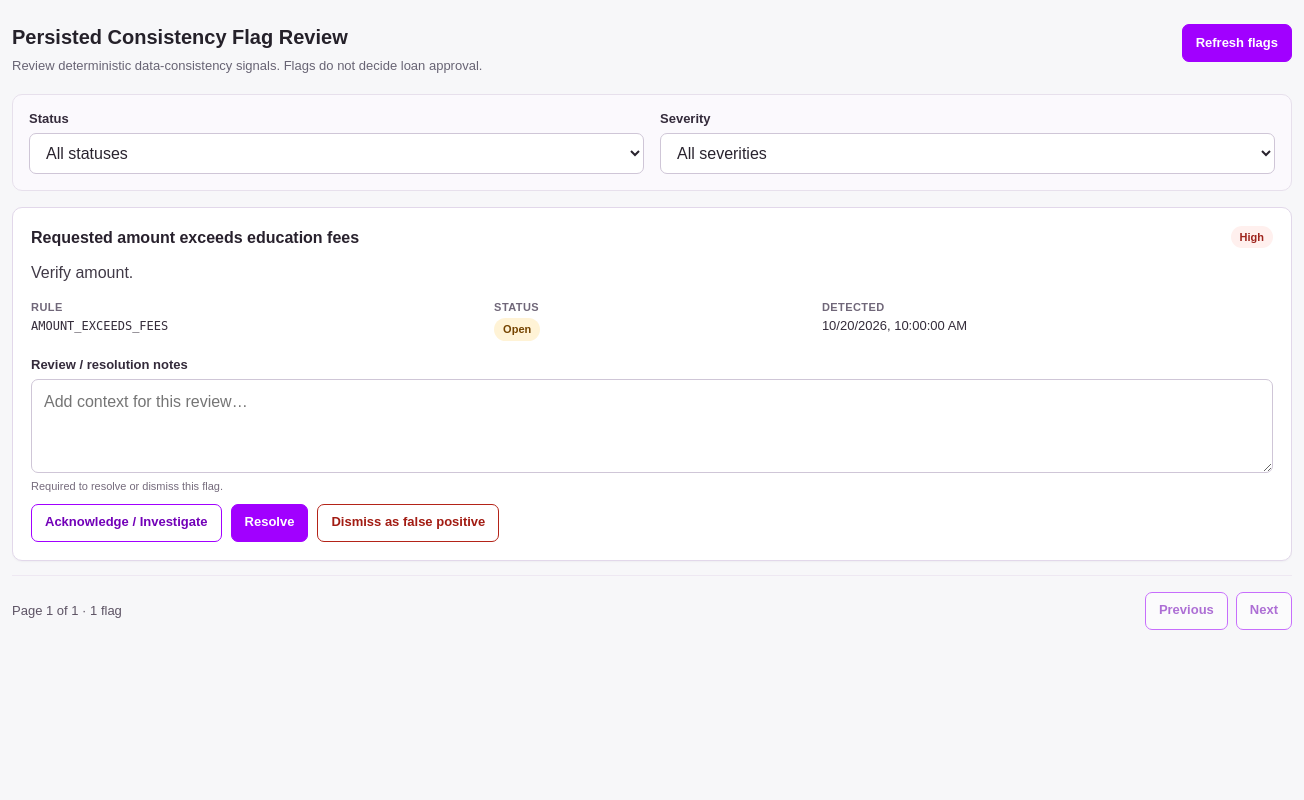
Test: ConsistencyFlagReviewPanel › requires notes before resolving a flag
Click the button "Resolve" at {"x": 269, "y": 523}, box [230,504,308,542]
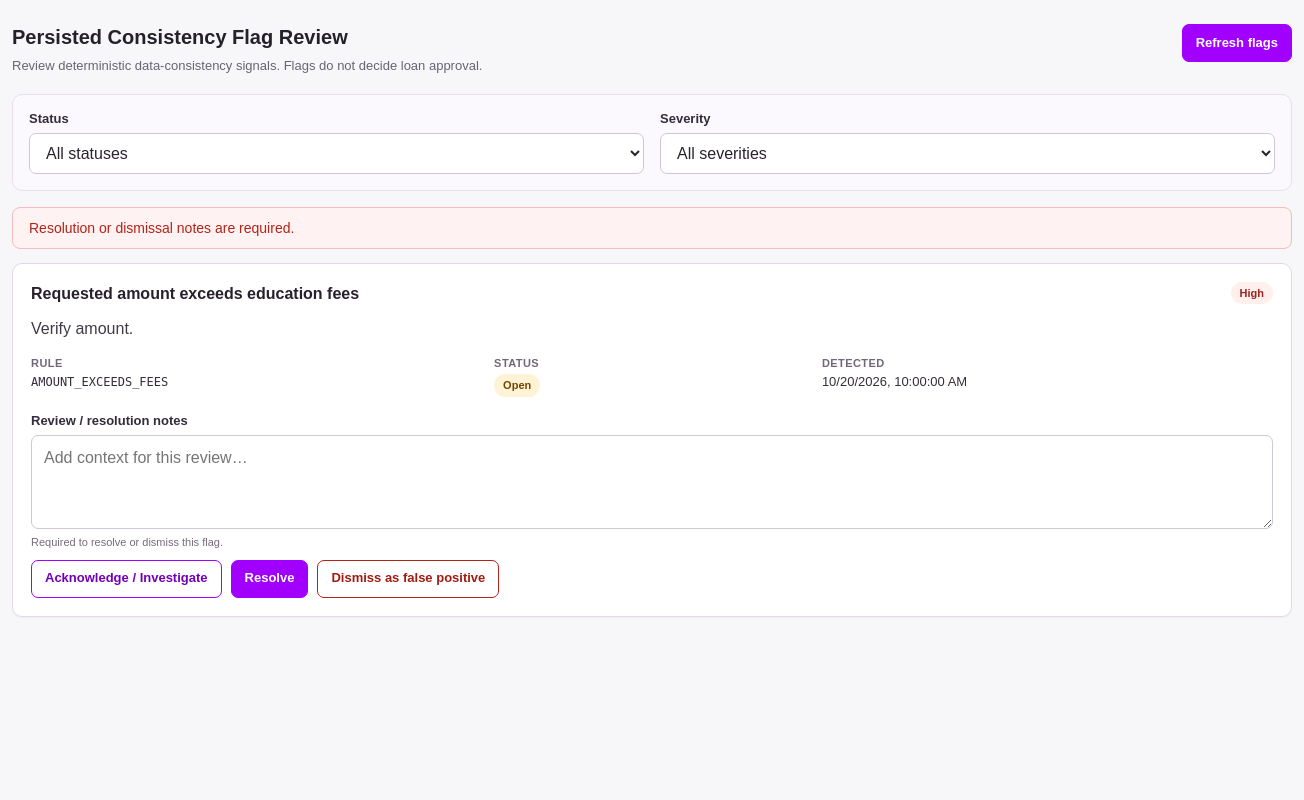
Expected: the message shows "notes are required", [29,220,294,236]
